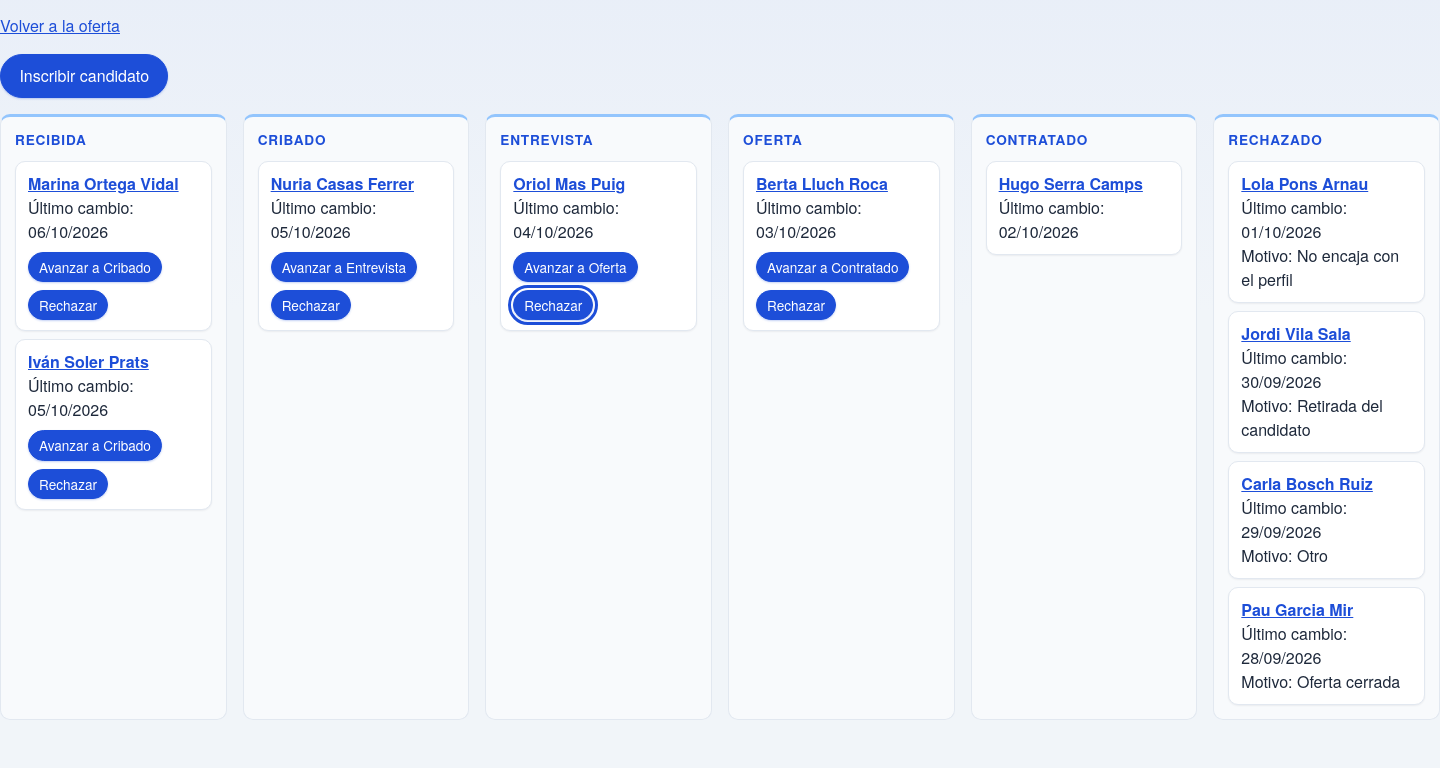
Scenario: PipelineScreen: rechazar › RNF-08 Cancelar descarta motivo y nota y devuelve el foco a Rechazar
Click the button named "Rechazar: Oriol Mas Puig": (553, 305) [513,290,593,320]
(page scrolled)
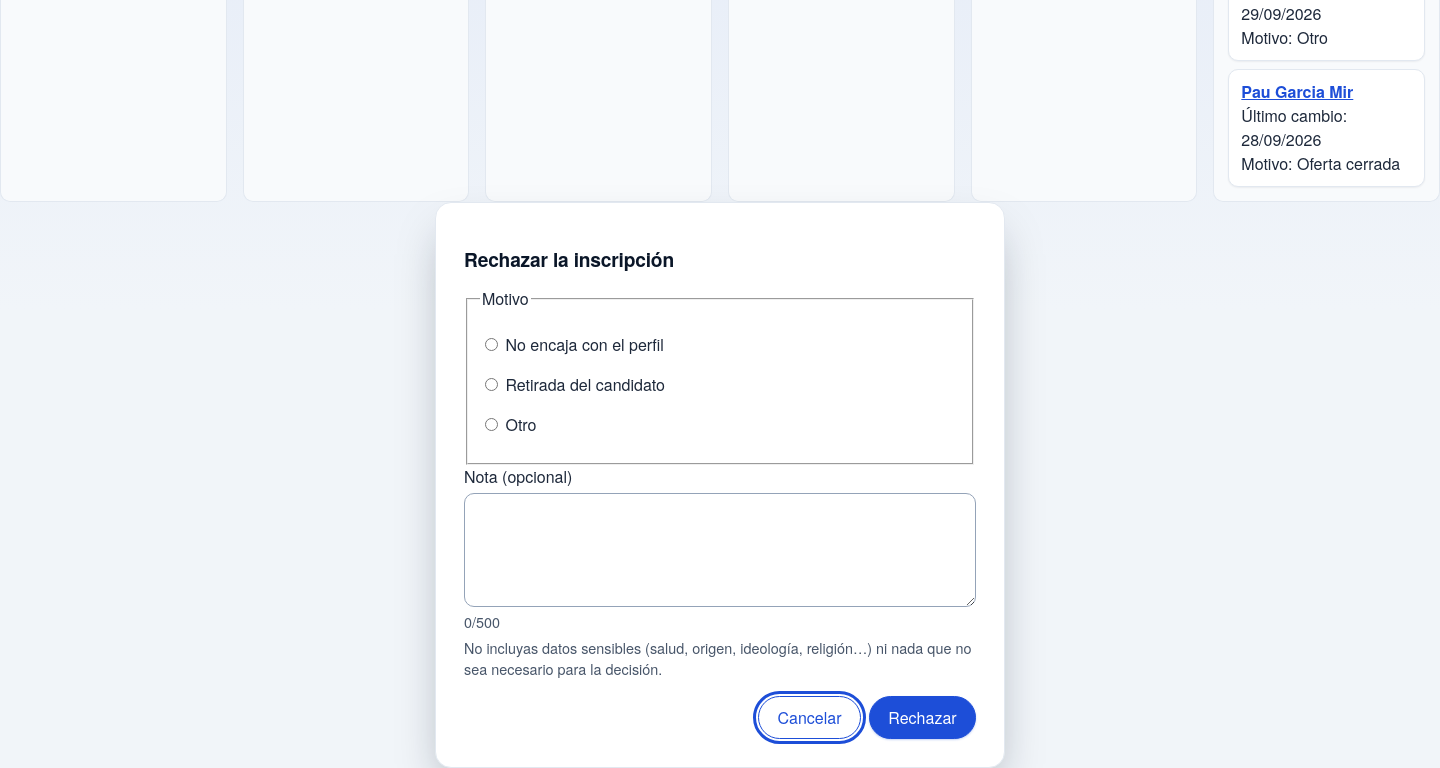
Click the radio button labelled "Otro": (492, 424) [485,418,498,431]
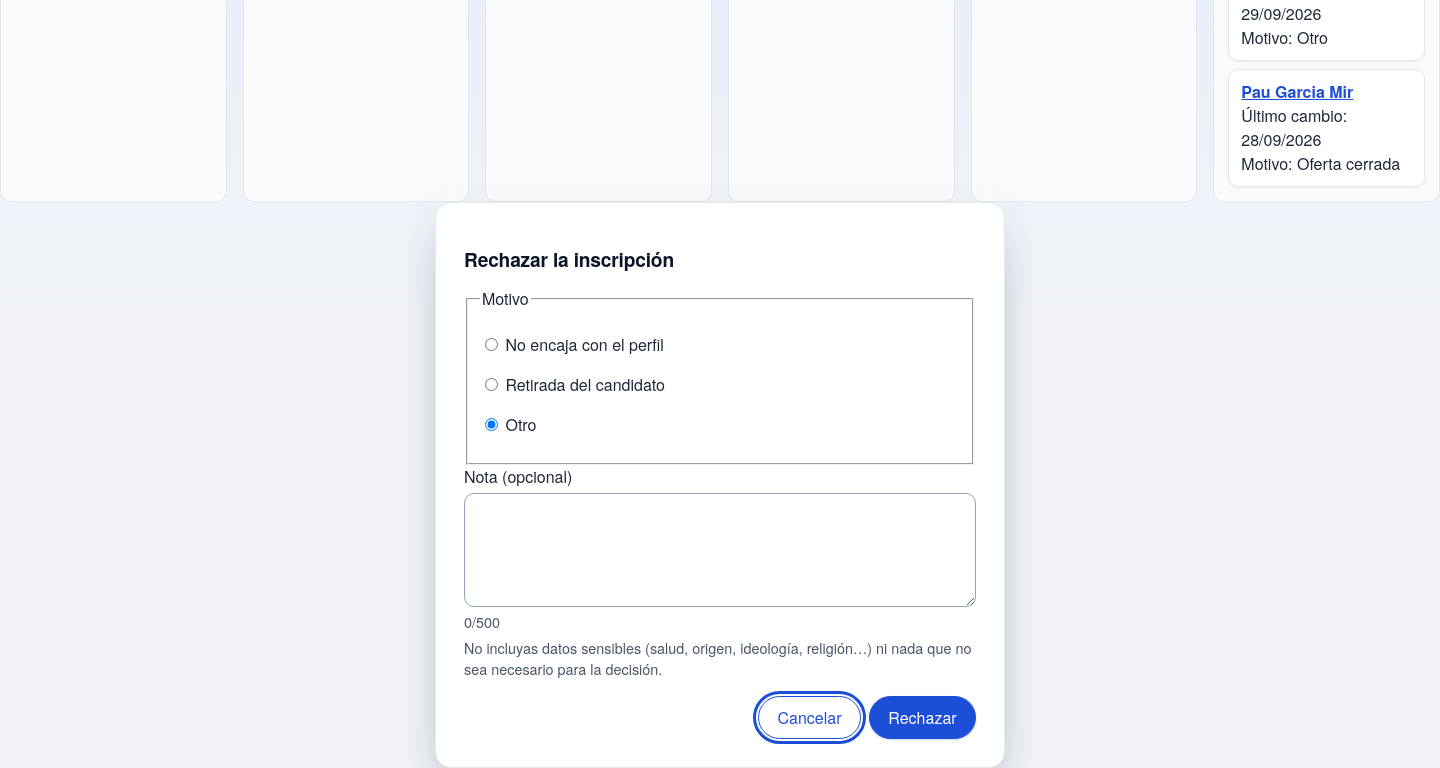
In the text box labelled "Nota (opcional)": (720, 550) [464,493,976,607], type "Nota que se descarta."
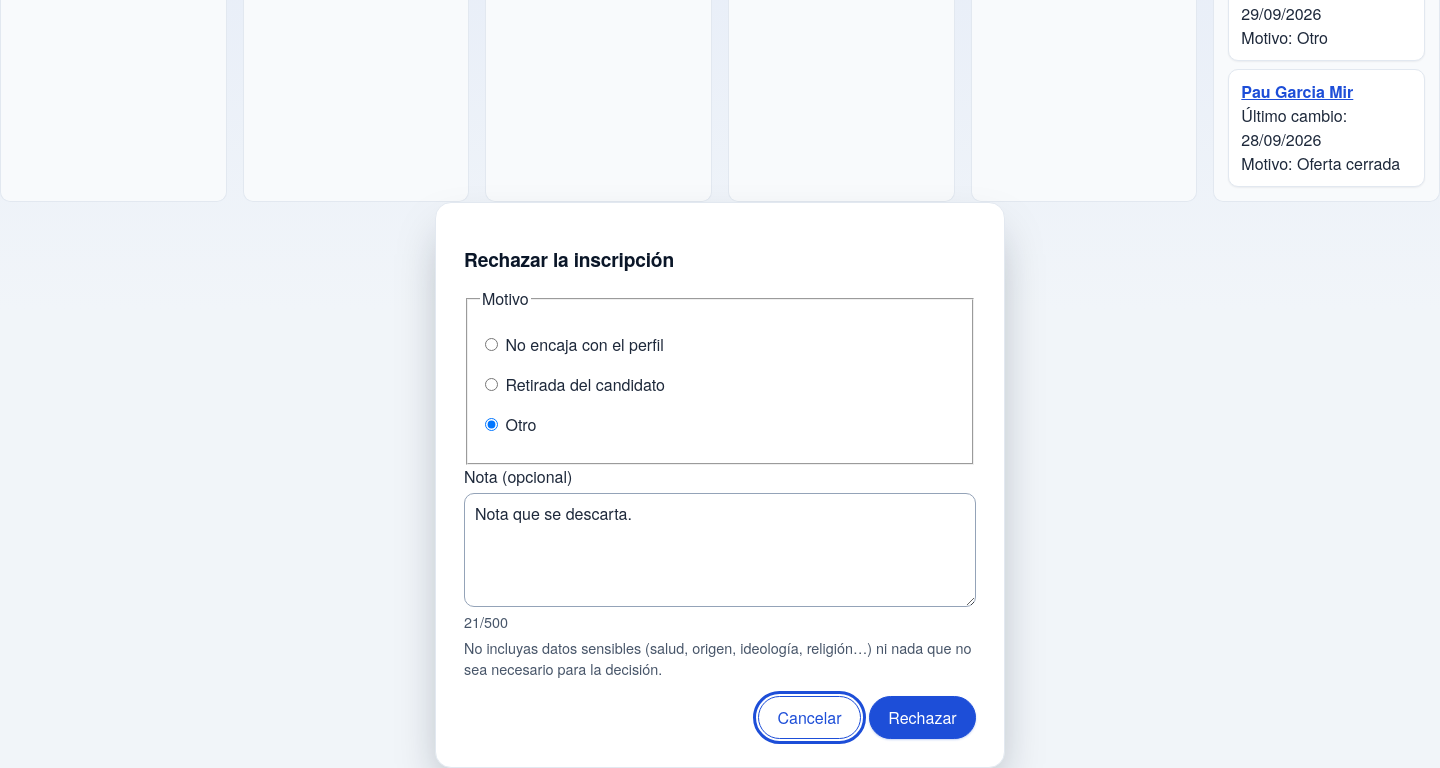
Click the button "Cancelar": (810, 718) [758,696,861,740]
(page scrolled)
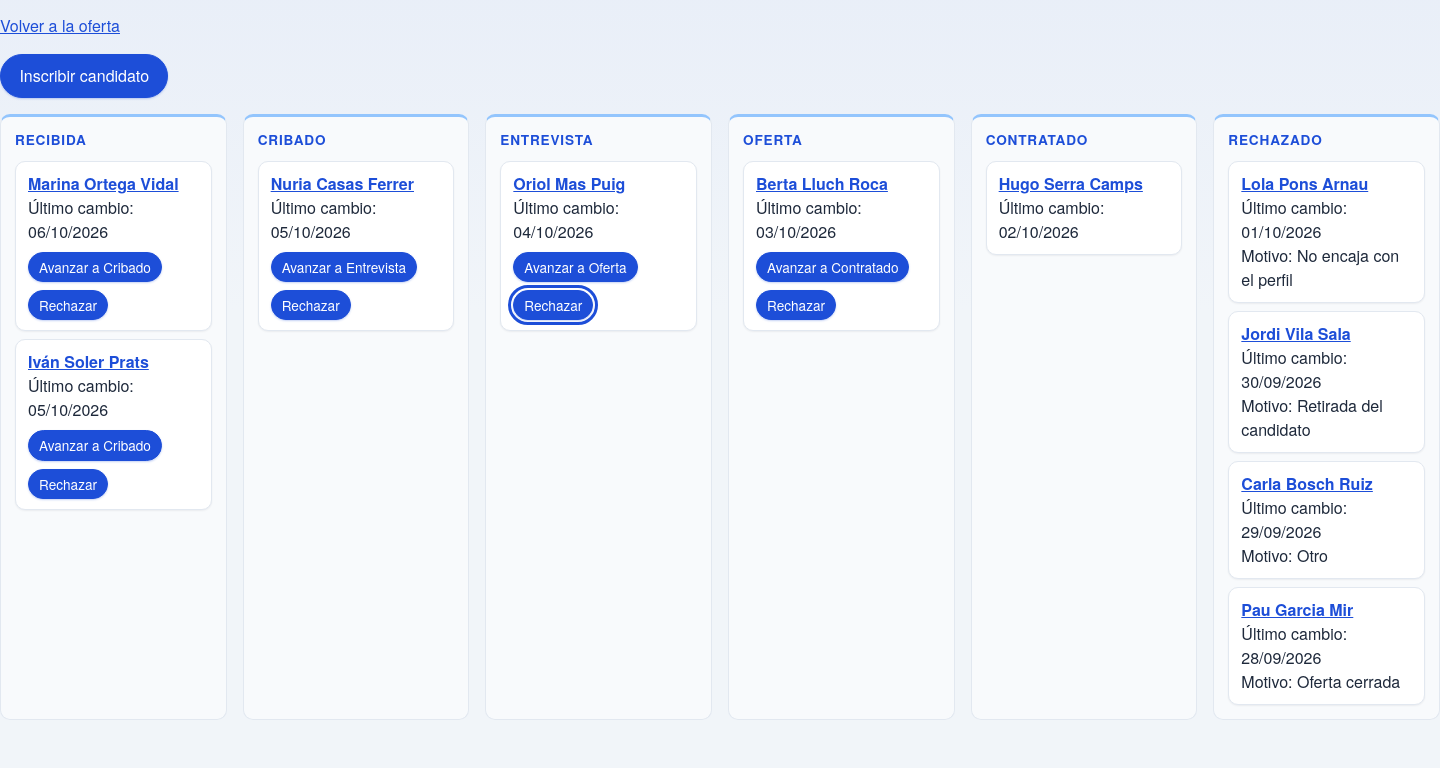
Click the button named "Rechazar: Oriol Mas Puig": (553, 305) [513,290,593,320]
(page scrolled)
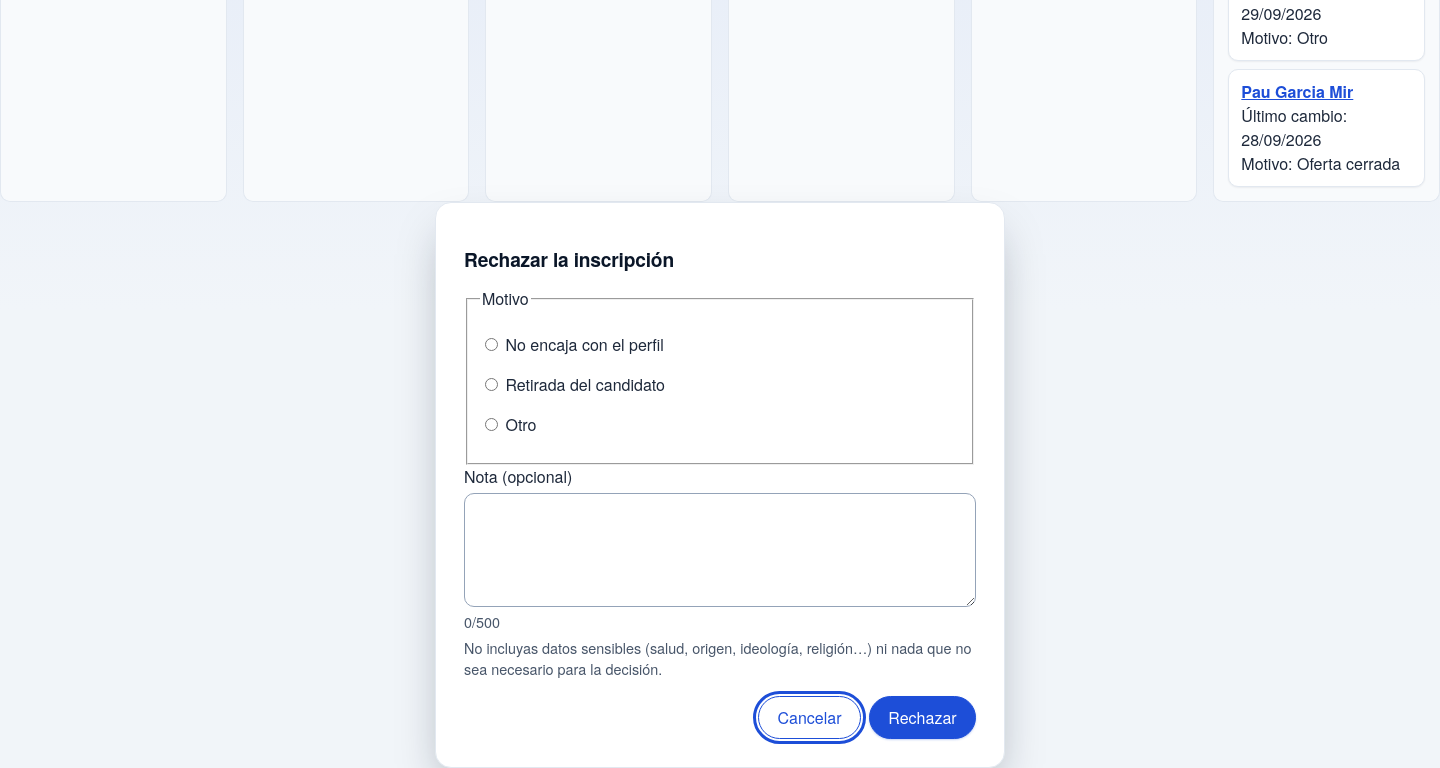
Check: the radio button labelled "Otro" is not checked, box [485,418,498,431]
Check: the text box labelled "Nota (opcional)" is empty, box [464,493,976,607]
